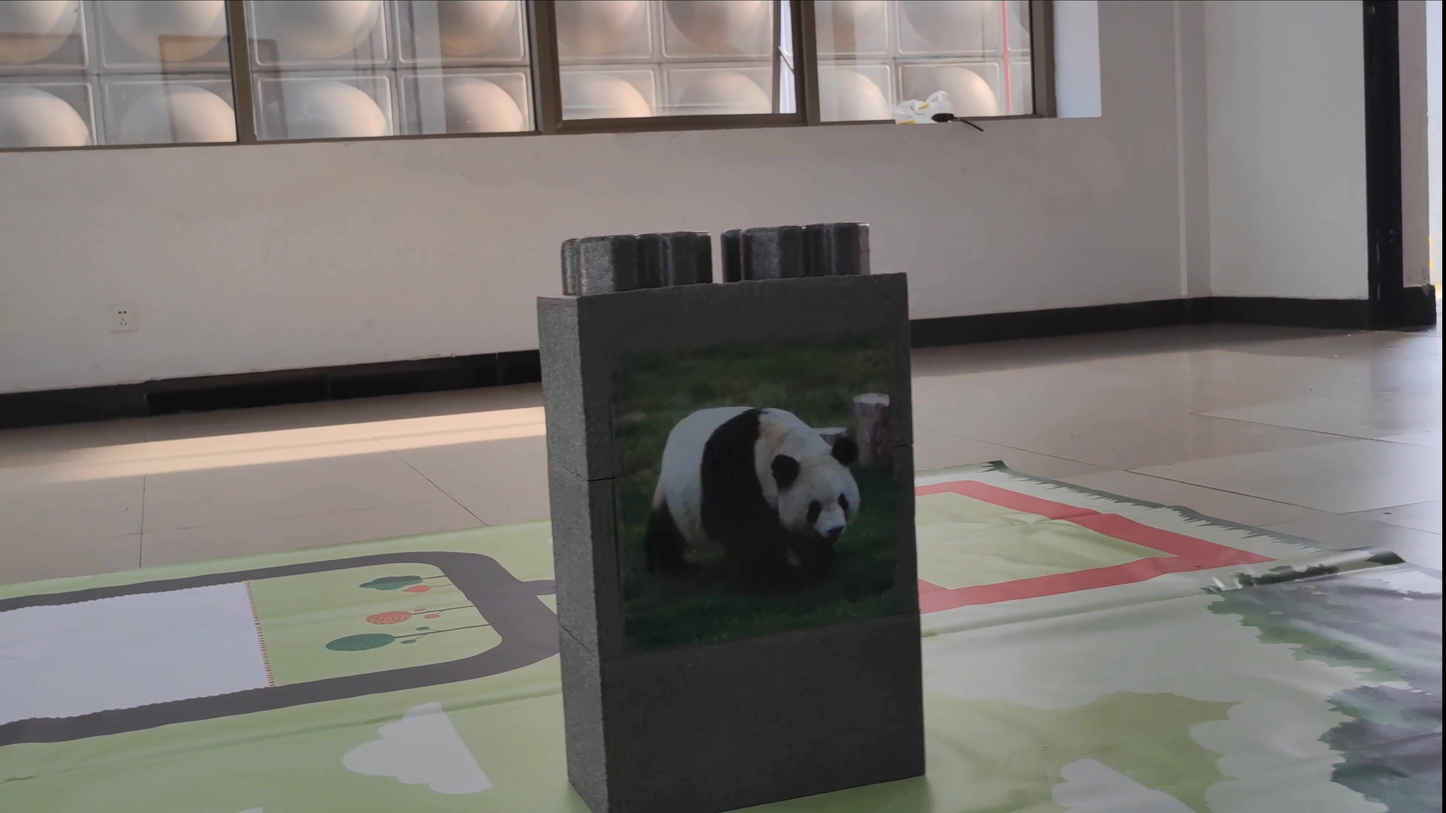panda: (633, 392, 894, 583)
